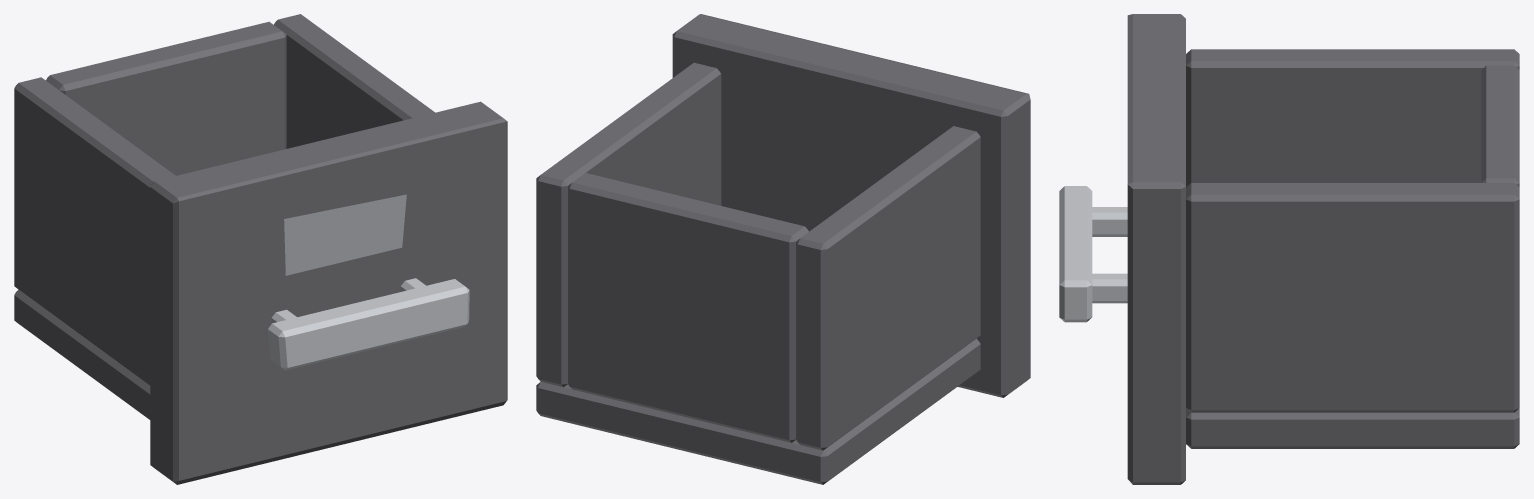
The model's file is Shelving_4_box_5.fbx.
3 renders of one model, left to right at view 1: azimuth 30°, elevation 25°; view 2: azimuth 150°, elevation 25°; view 3: azimuth 270°, elevation 25°, orthographic. The views are drawn at different scales.
Visible parts, largest first — view 1: Shelving_4_box_5; view 2: Shelving_4_box_5; view 3: Shelving_4_box_5.
Boxes of the visible parts, x1=… form: Shelving_4_box_5: x1=14, y1=14, x2=507, y2=484; Shelving_4_box_5: x1=536, y1=14, x2=1030, y2=484; Shelving_4_box_5: x1=1059, y1=14, x2=1519, y2=484.
Bounding box in the file's own units: 0.3336 × 0.2733 × 0.3762.
